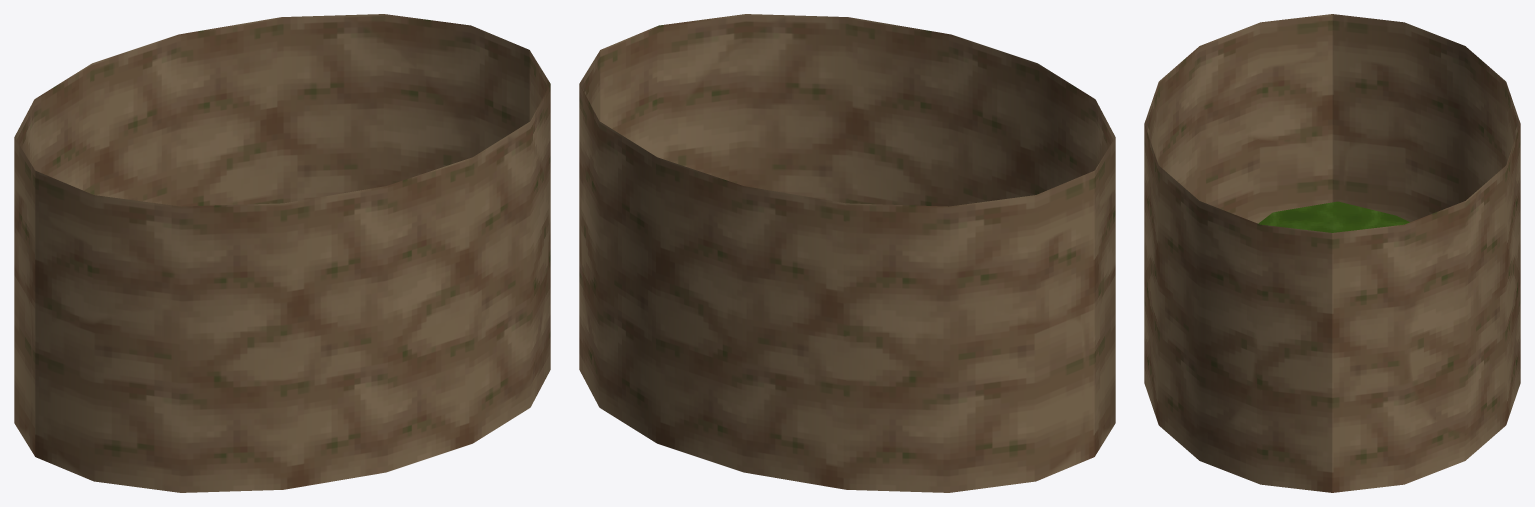
The model's file is map2.fbx.
3 renders of one model, left to right at view 1: azimuth 30°, elevation 25°; view 2: azimuth 150°, elevation 25°; view 3: azimuth 270°, elevation 25°, orthographic. The views are drawn at different scales.
Visible parts, largest first — view 1: Cylinder; view 2: Cylinder; view 3: Cylinder.
Boxes of the visible parts, <box> form: Cylinder: <box>14,14,550,492</box>; Cylinder: <box>579,14,1115,492</box>; Cylinder: <box>1144,14,1520,492</box>.
Bounding box in the file's own units: 154 × 86.36 × 112.
Materials: 1 (1 with a texture image).
